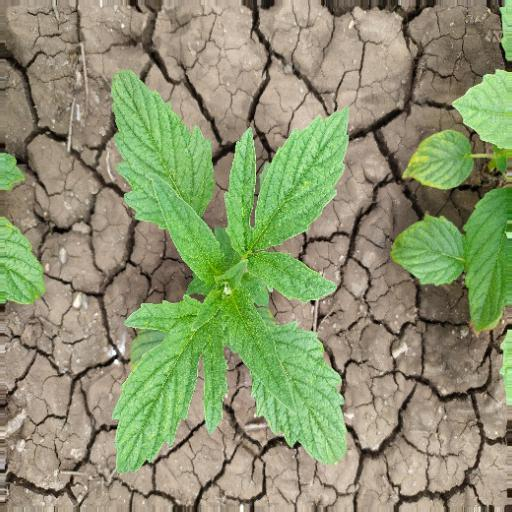crop: (91, 55, 362, 471), (404, 38, 512, 359)
